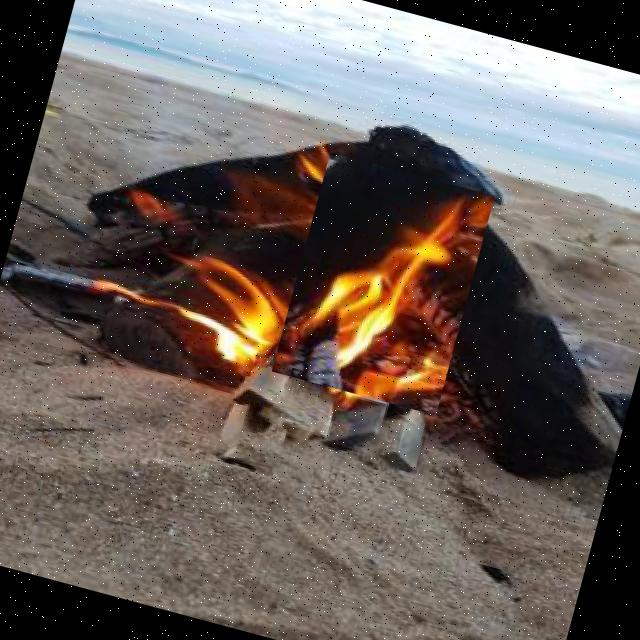fire: (271, 152, 494, 415), (104, 192, 289, 377)
